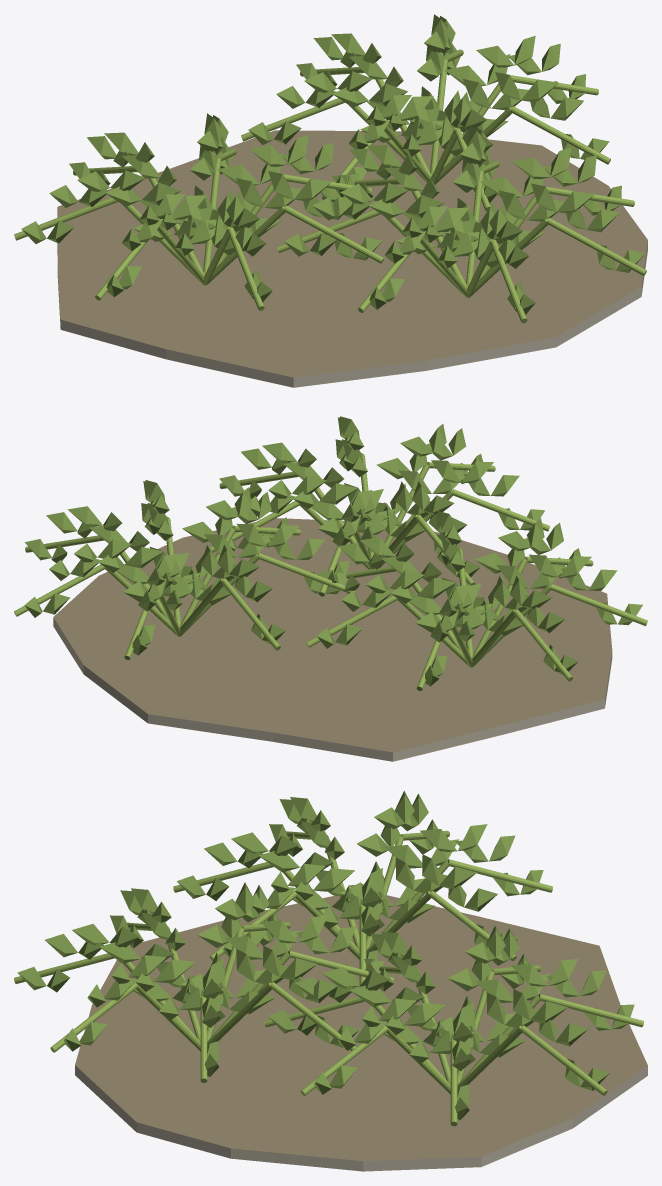
The model's file is Fern_Cluster_Flourishing.glb.
3 views of the same model, one above another, from view 1: azimuth 30°, elevation 25°; view 2: azimuth 150°, elevation 25°; view 3: azimuth 270°, elevation 25° (orthographic). The views are drawn at different scales.
Parts seen in each view (by area): view 1: Support, Growth; view 2: Support, Growth; view 3: Support, Growth.
Boxes of the visible parts, <box> form: Support: <box>57,130,647,387</box>; Growth: <box>14,14,646,323</box>; Support: <box>53,518,612,761</box>; Growth: <box>14,416,647,690</box>; Support: <box>75,895,647,1171</box>; Growth: <box>14,791,643,1126</box>.
Size of the model in its own units: 3.03 by 0.64 by 2.79.
